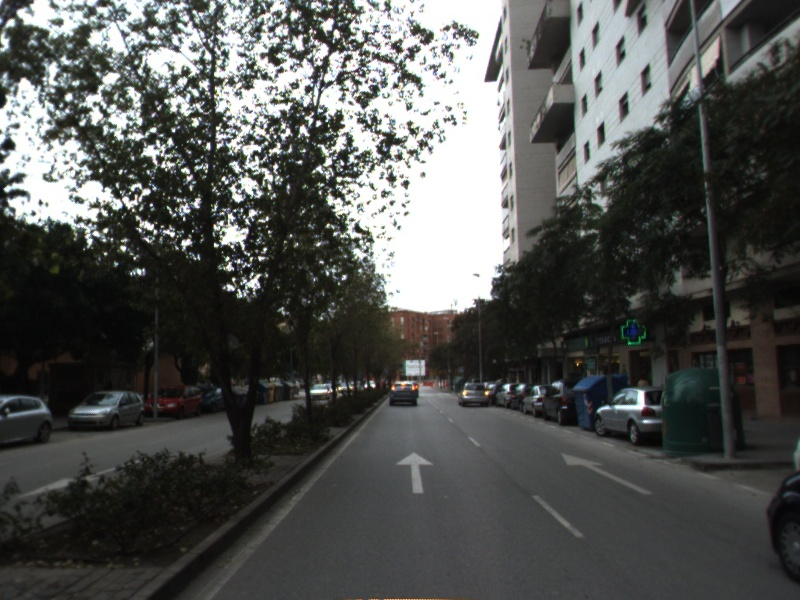STRAIGHT: (559, 451, 657, 497), (394, 450, 436, 495)
